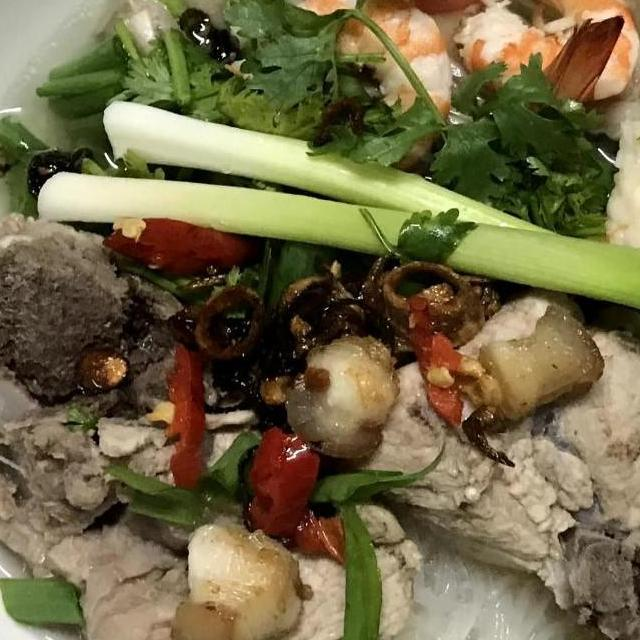banh hu tieu: (249, 587, 602, 640)
hu tieu: (0, 0, 640, 640)
thit heo: (0, 326, 357, 640), (0, 194, 125, 615), (524, 388, 640, 640)
tom: (299, 0, 640, 126)
